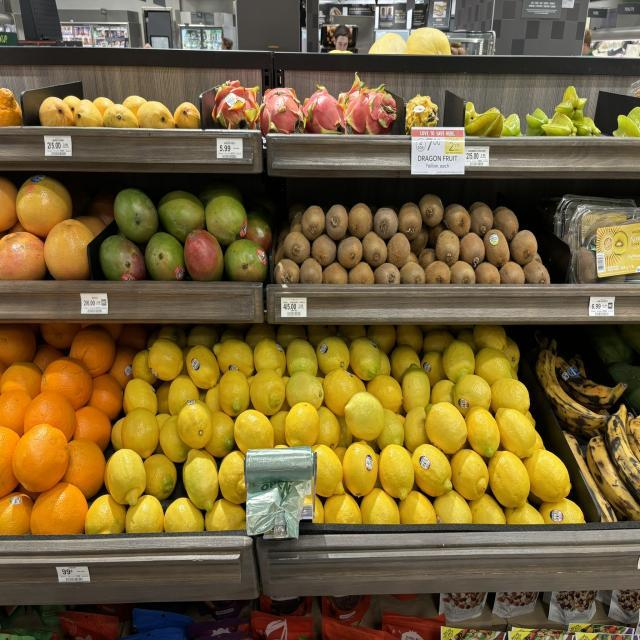Banana: (536, 348, 608, 430), (564, 432, 618, 521), (586, 437, 640, 520), (555, 357, 628, 410), (605, 405, 640, 500), (626, 415, 640, 462)
Kiwi: (484, 230, 510, 268), (510, 230, 538, 265), (492, 207, 519, 242), (444, 203, 471, 238), (362, 232, 388, 268), (435, 230, 460, 267), (460, 233, 485, 268), (469, 203, 494, 238), (399, 202, 422, 240), (419, 193, 444, 227), (325, 205, 349, 240), (301, 205, 325, 240), (284, 232, 310, 264), (349, 203, 372, 238), (311, 235, 336, 267), (374, 207, 398, 240), (388, 233, 410, 268), (338, 237, 362, 268), (274, 258, 300, 283), (522, 260, 550, 283), (410, 225, 429, 257), (425, 260, 451, 283), (450, 260, 476, 283), (300, 258, 322, 283), (322, 262, 348, 283), (349, 262, 375, 283), (500, 262, 525, 283), (475, 262, 500, 283), (400, 262, 425, 283), (374, 263, 400, 283), (428, 222, 446, 248), (419, 248, 438, 269), (290, 212, 302, 232), (275, 242, 285, 264), (408, 252, 419, 263)
Lemon: (244, 447, 316, 535), (524, 450, 571, 502), (489, 450, 530, 508), (105, 448, 146, 505), (182, 448, 219, 511), (411, 443, 452, 497), (425, 402, 468, 453), (495, 407, 536, 458), (379, 445, 415, 500), (450, 450, 489, 500), (121, 407, 159, 458), (345, 392, 385, 440), (342, 443, 378, 495), (322, 368, 359, 417), (465, 407, 500, 458), (234, 410, 274, 453), (212, 338, 255, 378), (250, 368, 285, 415), (85, 495, 126, 535), (178, 400, 212, 448), (452, 375, 491, 416), (144, 453, 178, 500), (285, 402, 320, 447), (312, 445, 342, 497), (186, 345, 220, 390), (148, 338, 184, 380), (159, 415, 190, 463), (125, 495, 164, 533), (490, 378, 530, 415), (475, 347, 512, 387), (219, 370, 250, 417), (286, 372, 324, 410), (360, 488, 400, 524), (219, 450, 246, 503), (442, 340, 475, 383), (164, 498, 205, 532), (205, 498, 246, 532), (205, 412, 235, 457), (349, 337, 380, 380), (366, 375, 402, 412), (122, 378, 158, 415), (401, 367, 430, 412), (316, 337, 350, 375), (434, 490, 472, 523), (398, 490, 436, 523), (254, 338, 286, 377), (286, 338, 318, 377), (168, 375, 199, 415), (390, 345, 420, 385), (404, 407, 430, 453), (376, 408, 404, 450), (539, 498, 585, 523), (324, 493, 362, 523), (469, 493, 506, 523), (315, 407, 340, 448), (504, 502, 545, 525), (132, 350, 158, 385), (421, 352, 446, 386), (270, 410, 289, 444), (431, 380, 455, 405), (336, 415, 352, 448), (156, 380, 171, 413), (205, 385, 222, 413), (274, 518, 299, 537), (111, 417, 125, 449), (378, 348, 391, 374), (312, 495, 324, 522), (350, 373, 366, 392), (156, 413, 170, 428), (334, 447, 346, 463), (396, 413, 405, 425)
Orange: (12, 423, 69, 492), (30, 483, 88, 535), (60, 438, 105, 500), (40, 357, 92, 410), (24, 390, 76, 442), (70, 325, 115, 377), (72, 407, 111, 452), (88, 373, 122, 422), (0, 362, 42, 398), (0, 325, 36, 367), (0, 390, 31, 437), (0, 427, 20, 498), (0, 493, 34, 534), (109, 347, 138, 390), (32, 345, 64, 372)
